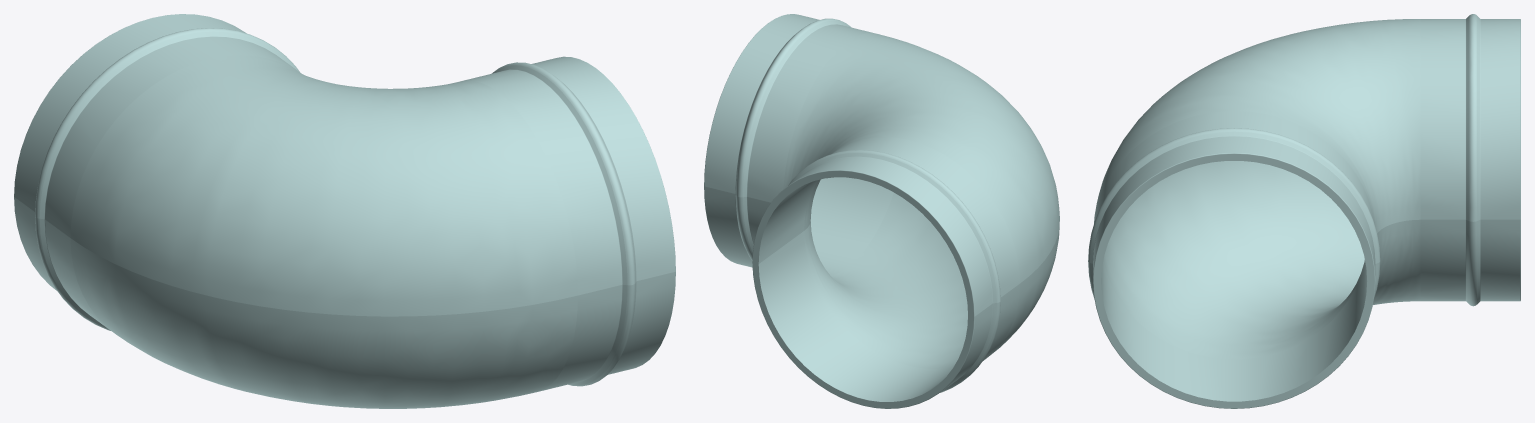
3 views of the same model, side by side, from view 1: azimuth 30°, elevation 25°; view 2: azimuth 150°, elevation 25°; view 3: azimuth 270°, elevation 25° (orthographic). The views are drawn at different scales.
Size of the model in its own units: 313 by 212 by 313.
